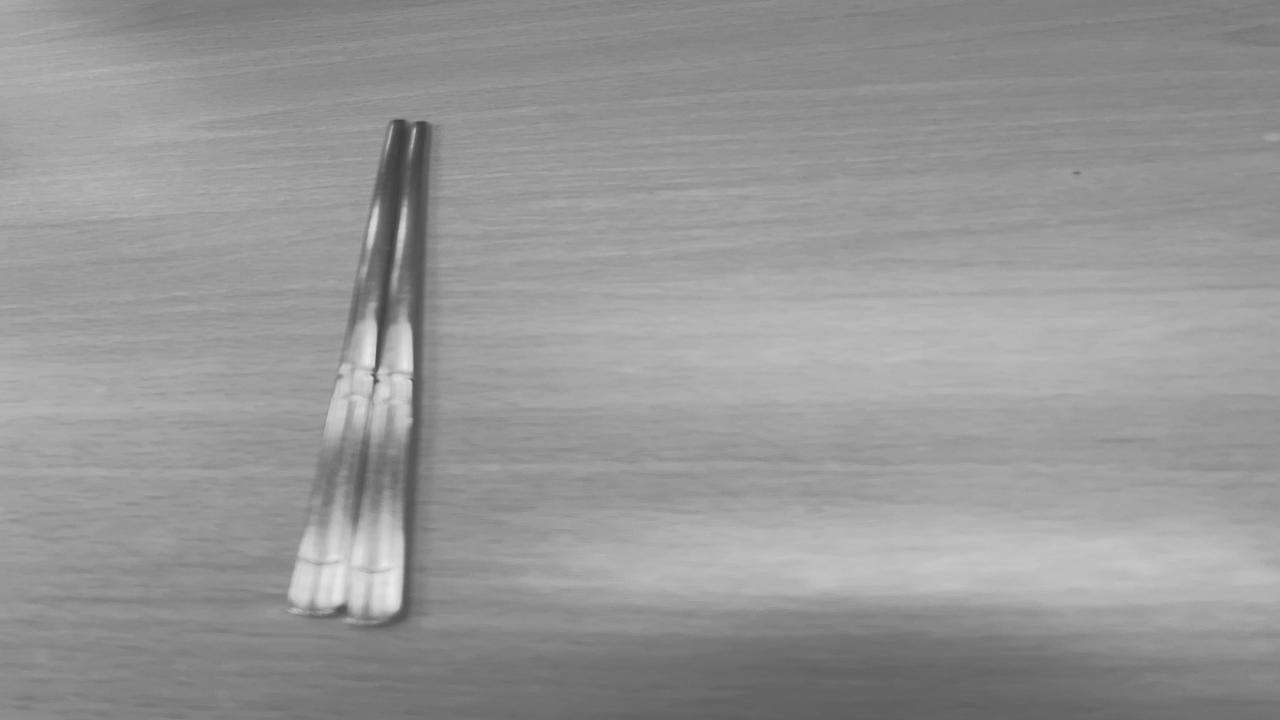chopstick: (290, 120, 427, 623)
